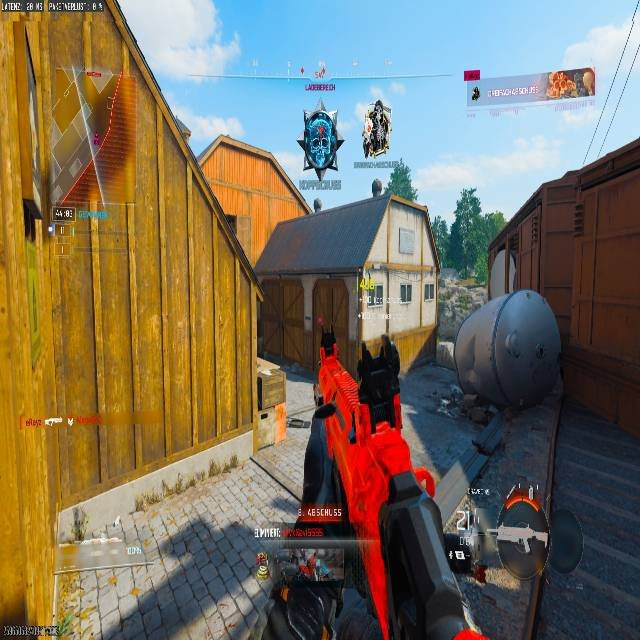player: (355, 332, 403, 429), (300, 105, 340, 185), (361, 97, 392, 156)
